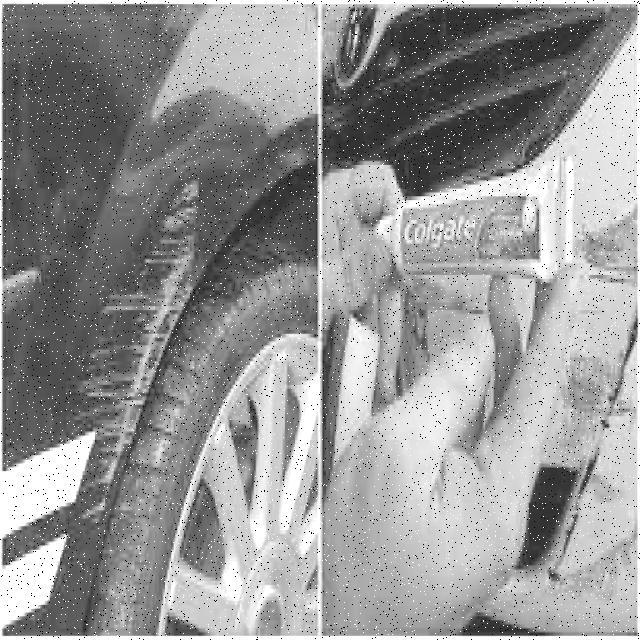car damage: (76, 173, 200, 534)
